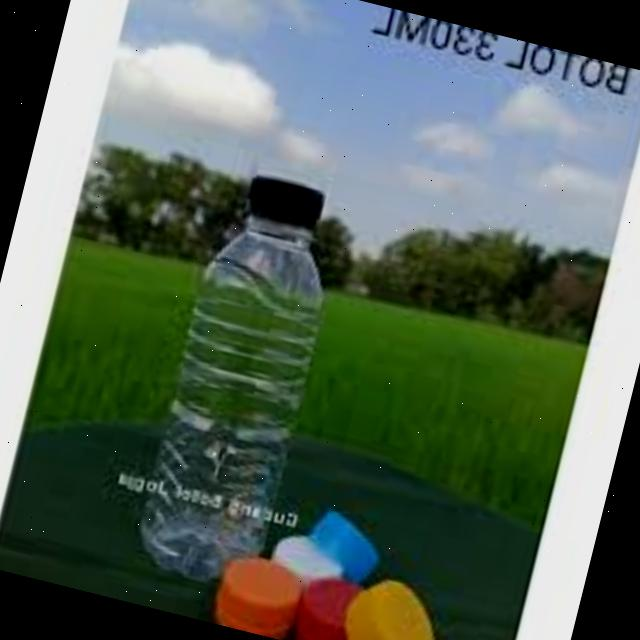trash: (120, 157, 359, 601)
